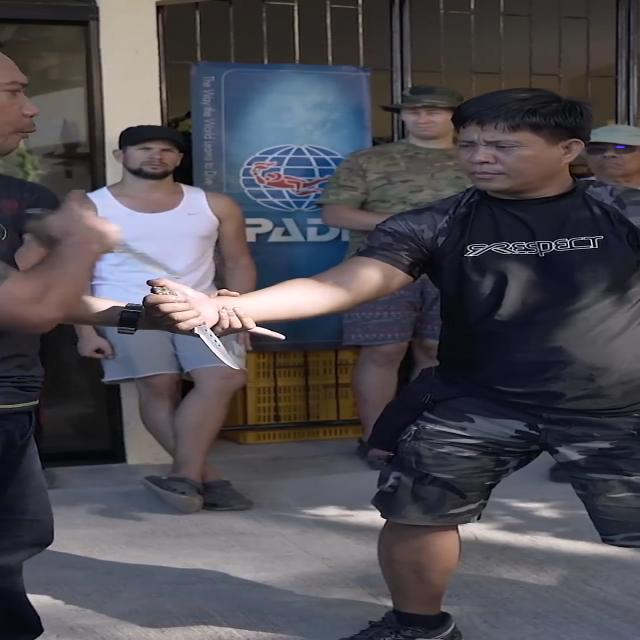Knife: (134, 288, 255, 372)
